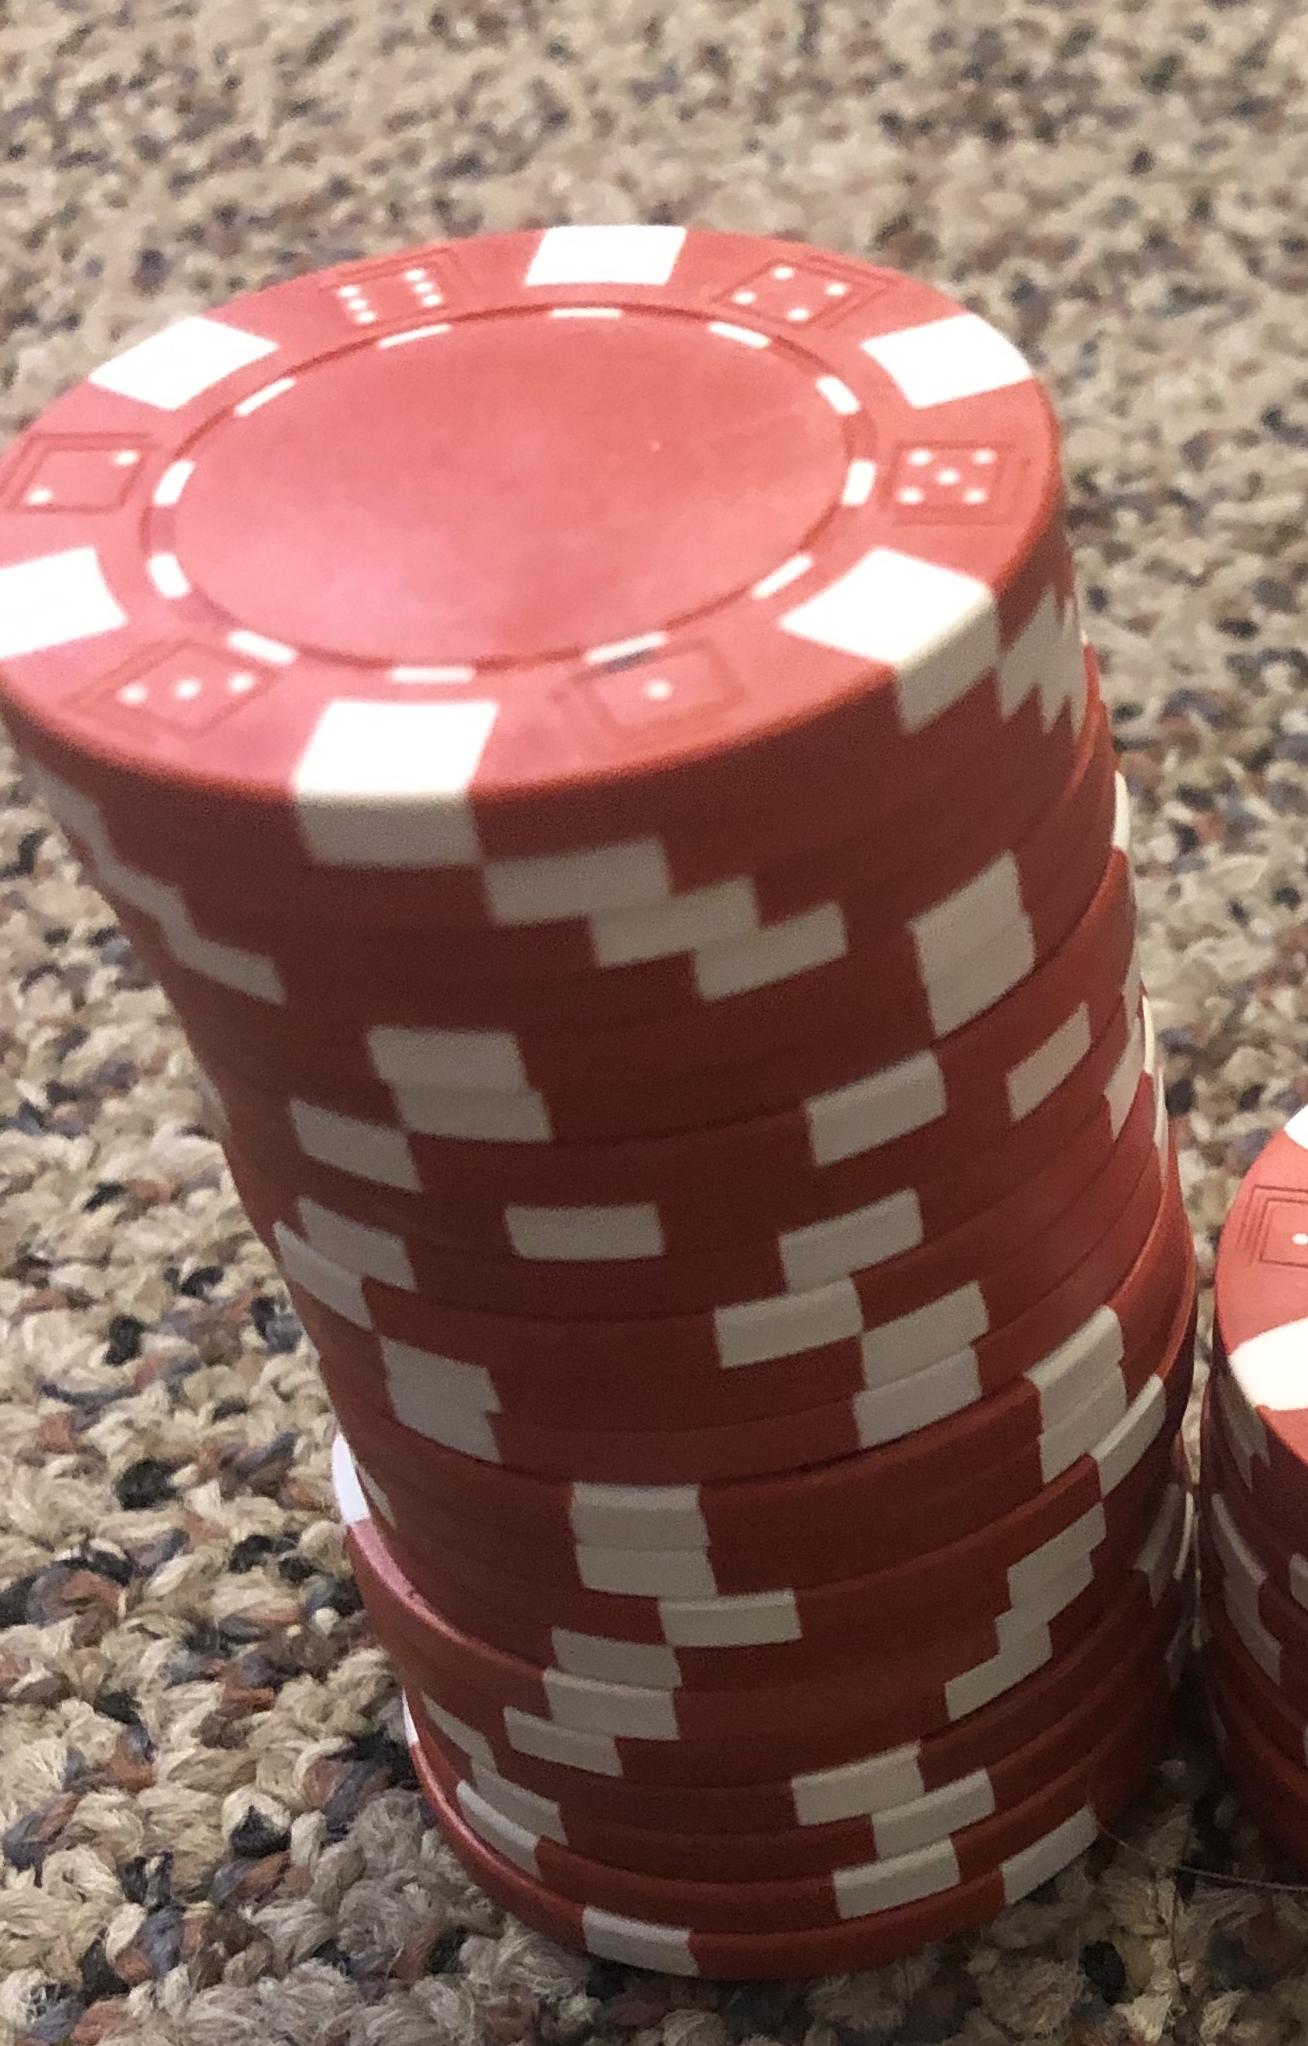Chip: (1, 1, 1308, 2046)
